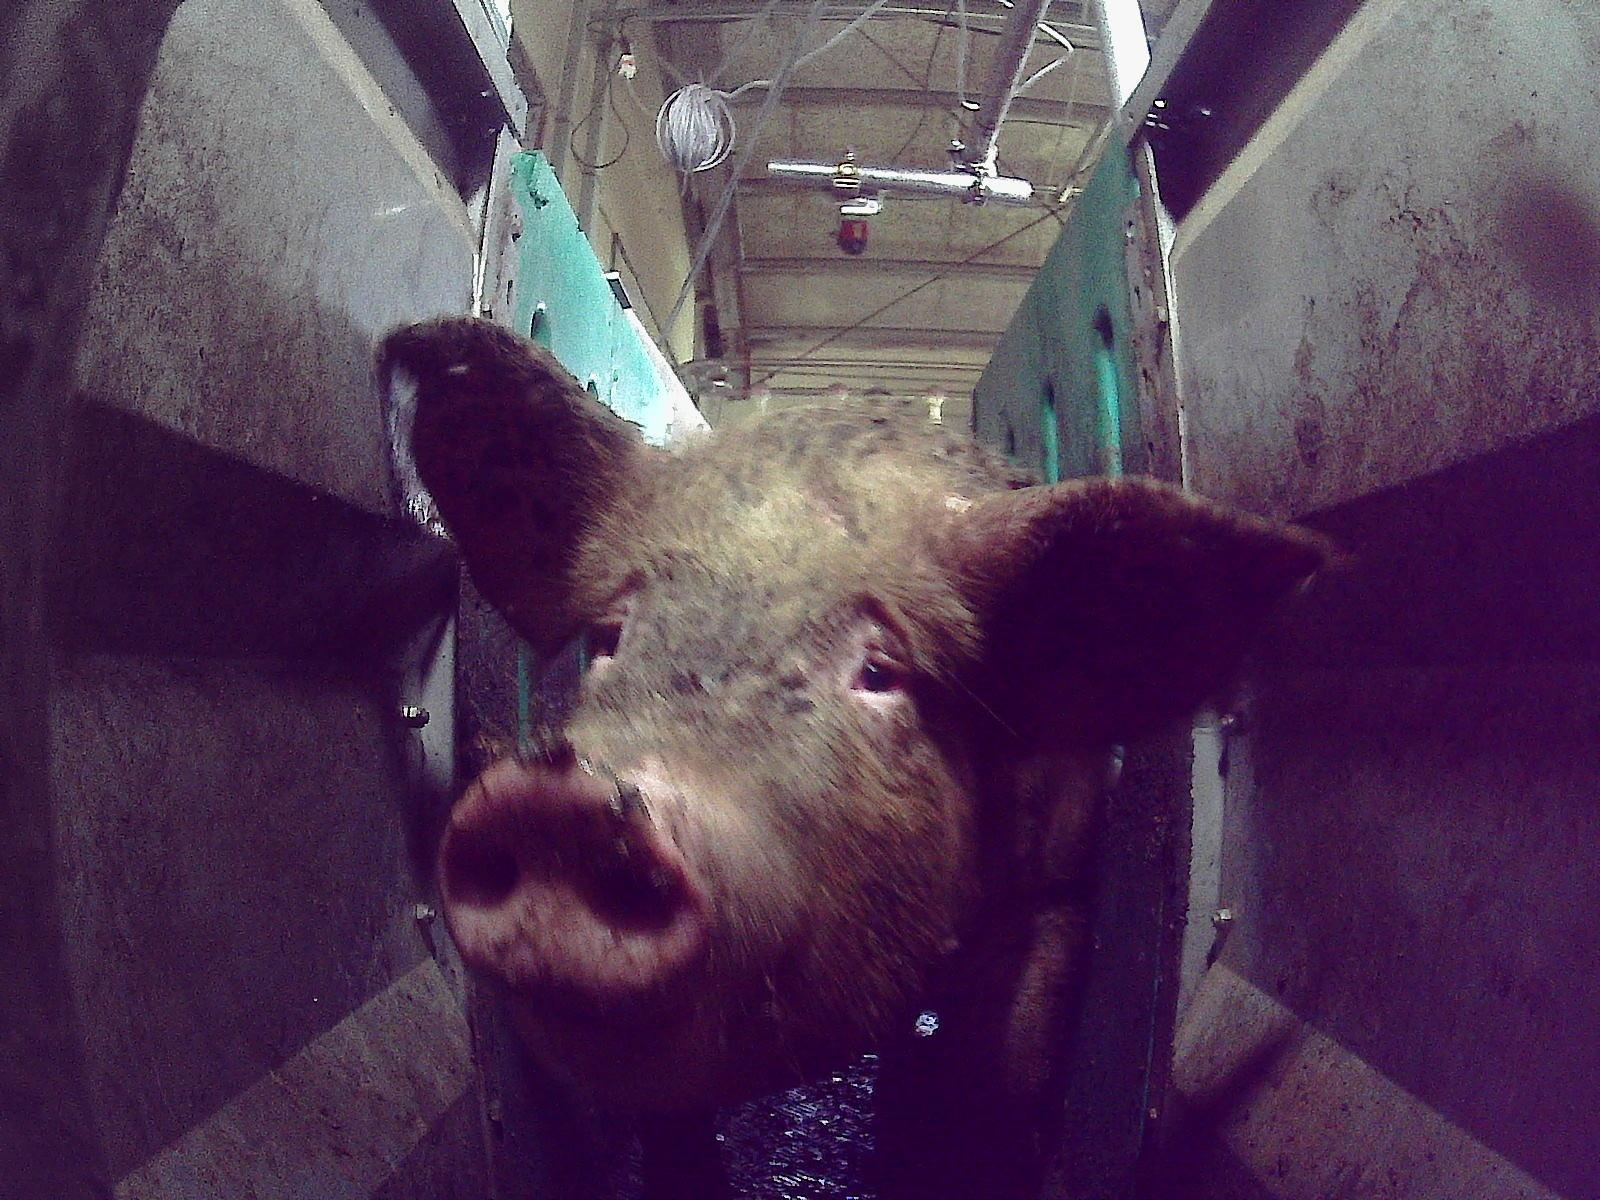Face: (436, 446, 1000, 1113)
